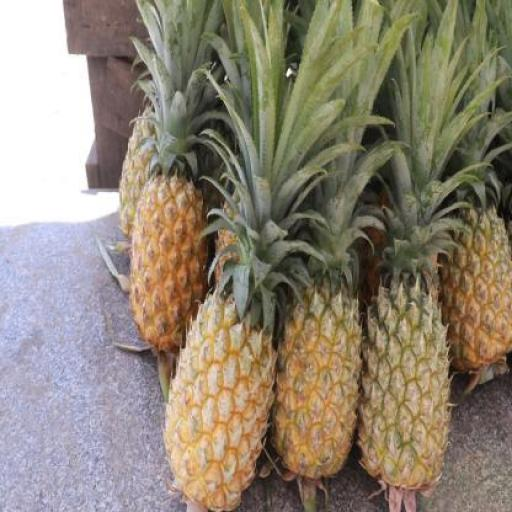------------------------------: (360, 282, 450, 487)
Pineapple - v8 v1: (166, 297, 272, 505), (272, 296, 359, 488), (130, 172, 206, 358), (439, 212, 512, 374)
